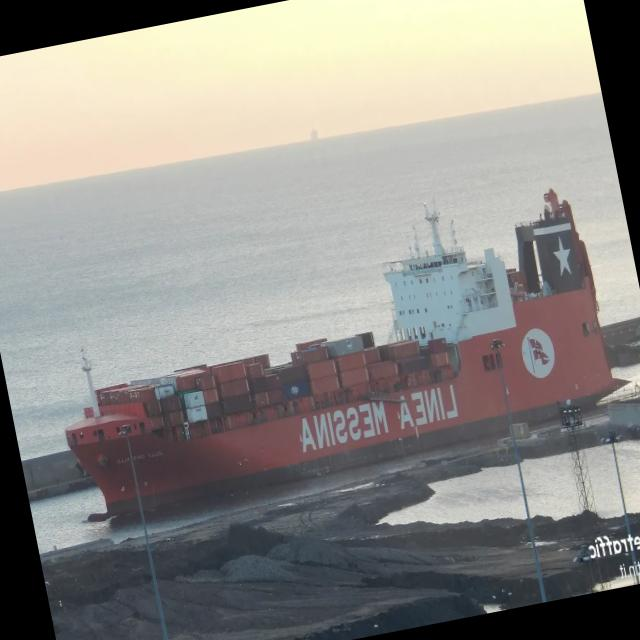Cargo: (66, 189, 625, 521)
